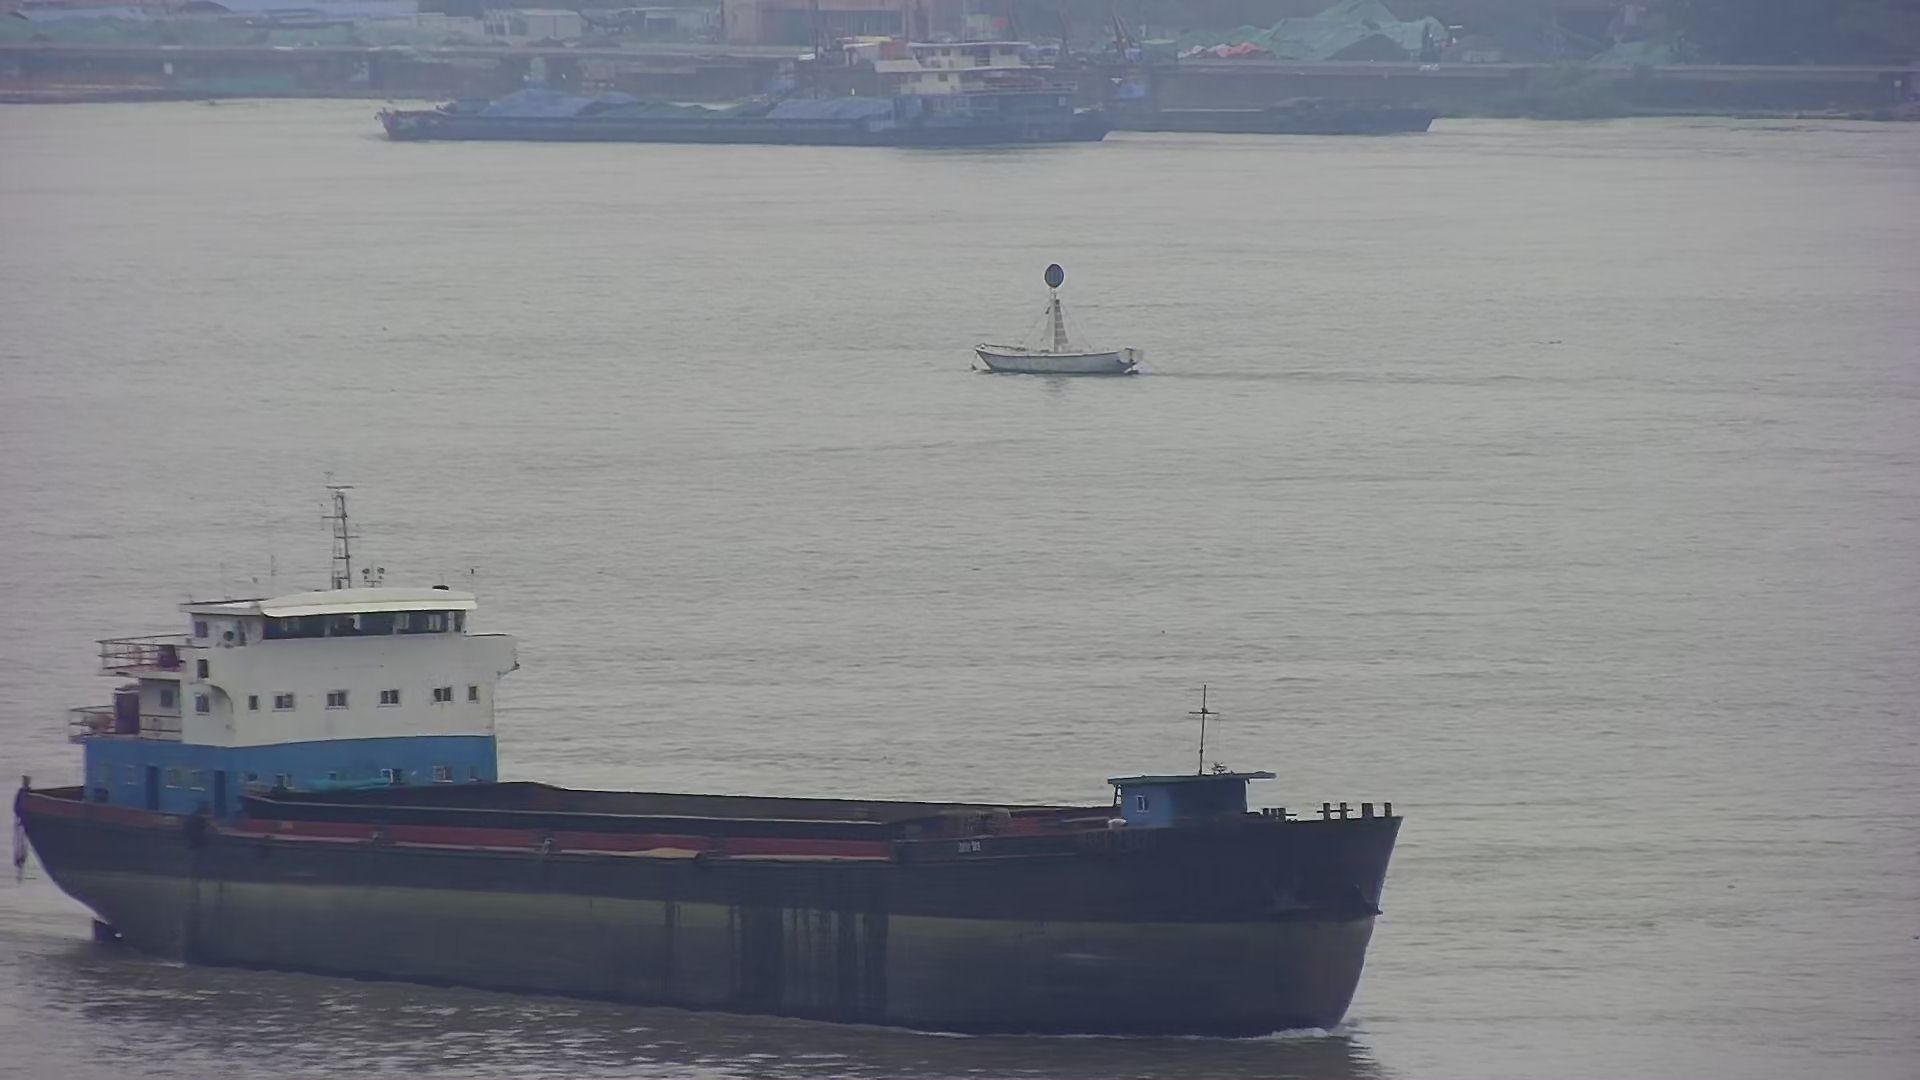boat: (976, 262, 1146, 377)
ship: (18, 481, 1404, 1040), (375, 42, 1117, 142), (1030, 47, 1437, 133)
